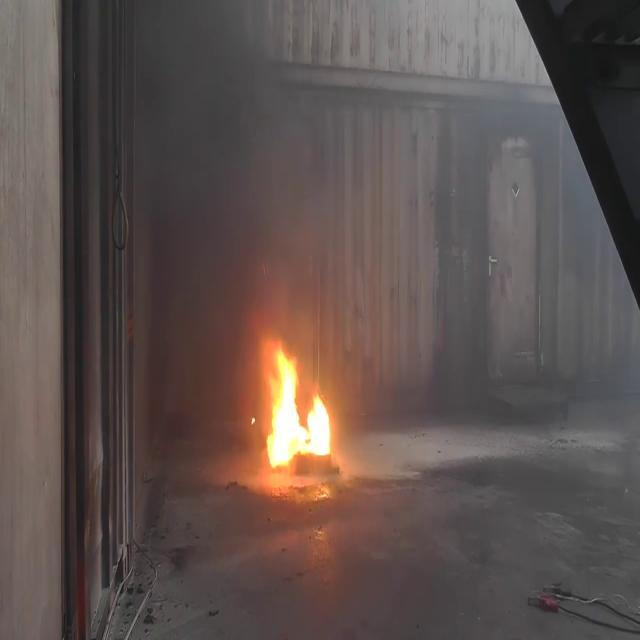Fire: (258, 332, 336, 472)
Smoke: (130, 0, 371, 316)
